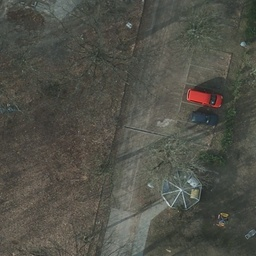car: (186, 90, 223, 107), (190, 109, 218, 125)
